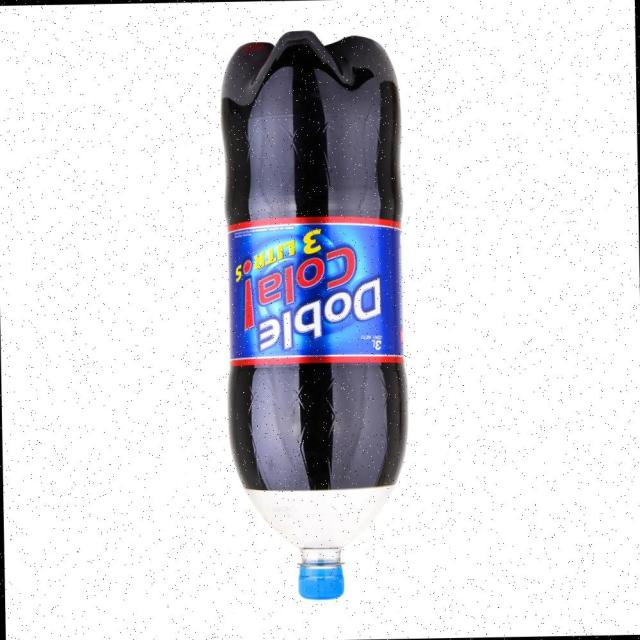doble cola: (187, 24, 449, 612)
